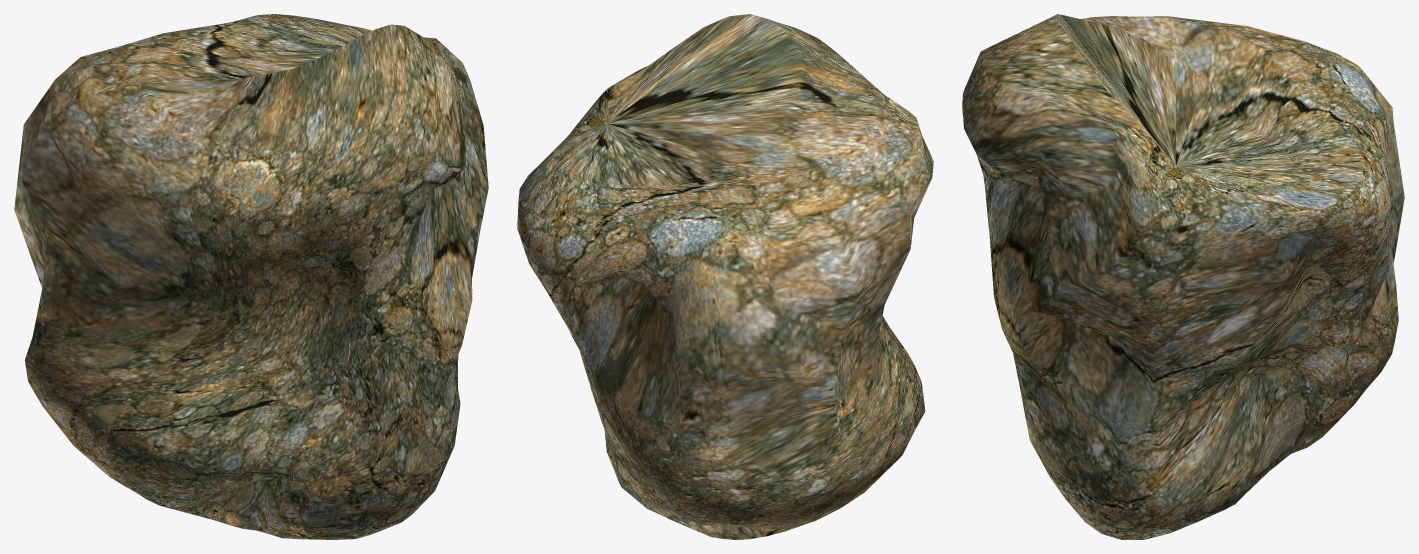
The model's file is Meteo_06.fbx.
The picture shows the model from 3 angles, left to right: view 1: azimuth 30°, elevation 25°; view 2: azimuth 150°, elevation 25°; view 3: azimuth 270°, elevation 25°; orthographic projection. The views are drawn at different scales.
Parts seen in each view (by area): view 1: Meteo_06; view 2: Meteo_06; view 3: Meteo_06.
Part boxes in pixels (x1,y1,x2,y2): Meteo_06: (14, 14, 488, 539); Meteo_06: (517, 14, 933, 539); Meteo_06: (962, 14, 1404, 539).
Size of the model in its own units: 407 by 528 by 422.
